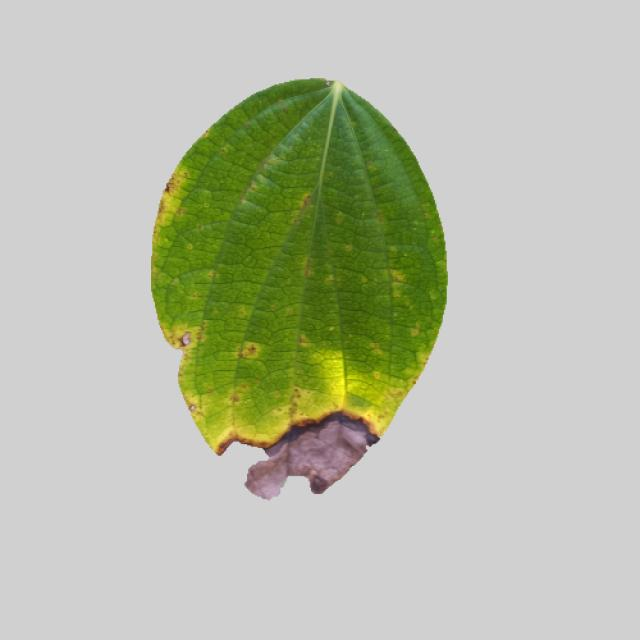leaf-blight: (147, 82, 452, 494)
